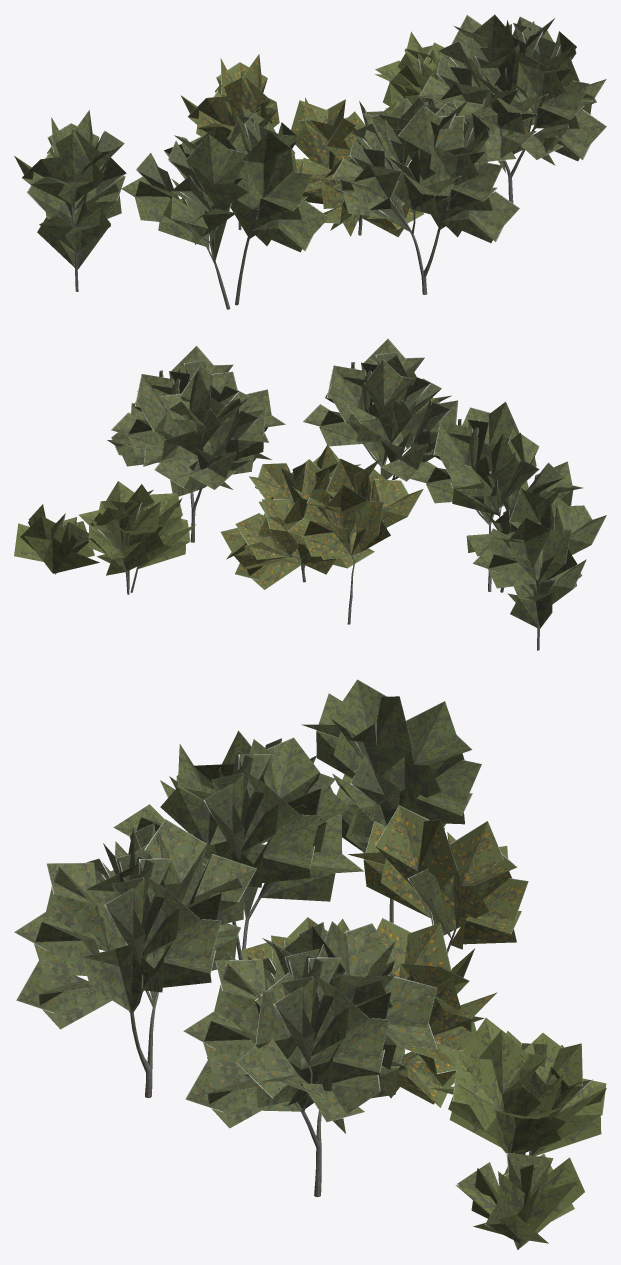
File: PLANT PACK.fbx
3 renders of one model, top to bottom at view 1: azimuth 30°, elevation 25°; view 2: azimuth 150°, elevation 25°; view 3: azimuth 270°, elevation 25°, orthographic. The views are drawn at different scales.
Visible parts, largest first — view 1: 4_Trees_0, 2_Trees_0, 3_Trees_0, 6_Trees_0, 7_Trees_0, 5_Trees_0, 8_Trees_0; view 2: 2_Trees_0, 3_Trees_0, 4_Trees_0, 6_Trees_0, 7_Trees_0, 5_Trees_0, 8_Trees_0, 1_Trees_0; view 3: 2_Trees_0, 3_Trees_0, 4_Trees_0, 6_Trees_0, 8_Trees_0, 5_Trees_0, 7_Trees_0, 1_Trees_0.
Boxes of the visible parts, x1=… form: 4_Trees_0: x1=121, y1=107, x2=328, y2=309; 2_Trees_0: x1=419, y1=14, x2=606, y2=203; 3_Trees_0: x1=332, y1=97, x2=519, y2=294; 6_Trees_0: x1=14, y1=110, x2=126, y2=291; 7_Trees_0: x1=290, y1=97, x2=423, y2=237; 5_Trees_0: x1=181, y1=54, x2=279, y2=229; 8_Trees_0: x1=375, y1=31, x2=453, y2=108; 2_Trees_0: x1=107, y1=345, x2=285, y2=542; 3_Trees_0: x1=303, y1=338, x2=458, y2=528; 4_Trees_0: x1=409, y1=401, x2=583, y2=592; 6_Trees_0: x1=473, y1=487, x2=606, y2=650; 7_Trees_0: x1=220, y1=444, x2=374, y2=589; 5_Trees_0: x1=288, y1=458, x2=423, y2=624; 8_Trees_0: x1=78, y1=481, x2=196, y2=594; 1_Trees_0: x1=14, y1=504, x2=99, y2=574; 2_Trees_0: x1=183, y1=921, x2=437, y2=1197; 3_Trees_0: x1=14, y1=819, x2=256, y2=1098; 4_Trees_0: x1=113, y1=730, x2=363, y2=959; 6_Trees_0: x1=301, y1=679, x2=481, y2=923; 8_Trees_0: x1=429, y1=1018, x2=606, y2=1155; 5_Trees_0: x1=347, y1=805, x2=528, y2=953; 7_Trees_0: x1=241, y1=917, x2=497, y2=1107; 1_Trees_0: x1=455, y1=1149, x2=584, y2=1250.
Size of the model in its own units: 11.57 by 3.75 by 7.52.
1 material, 1 textured.
